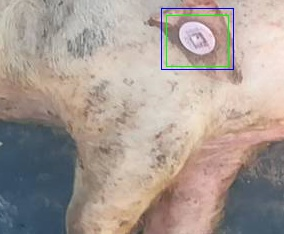text: (166, 15, 228, 66)
